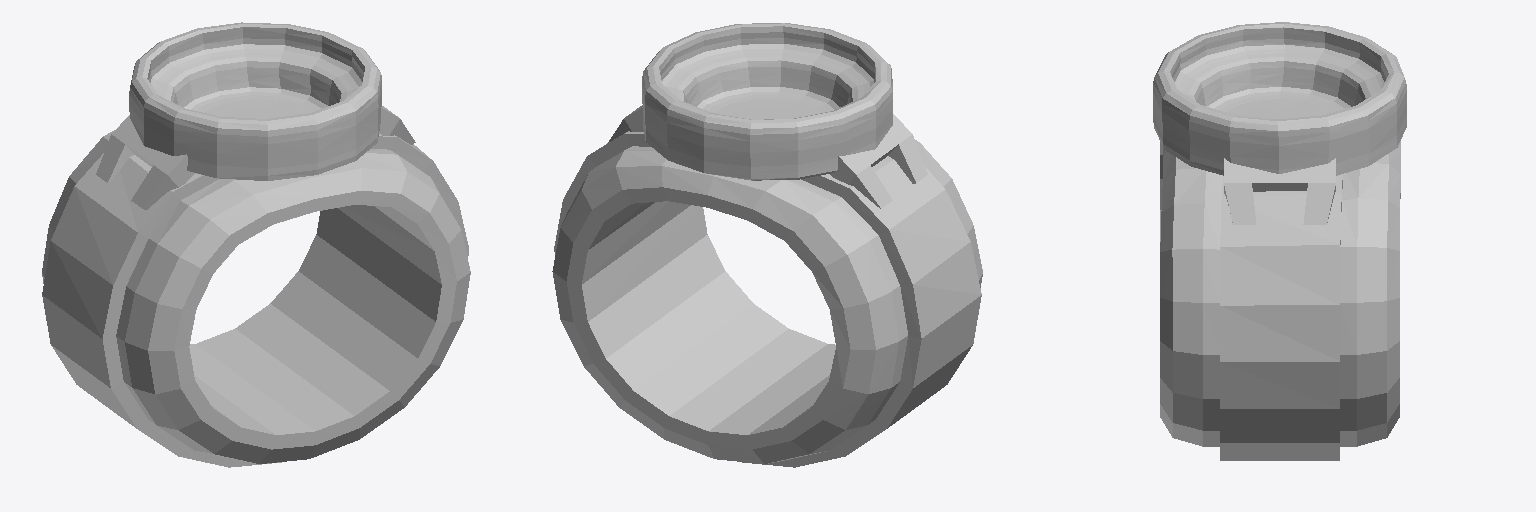
Rendered from watch_wristband.obj.
The picture shows the model from 3 angles: view 1: azimuth 30°, elevation 25°; view 2: azimuth 150°, elevation 25°; view 3: azimuth 270°, elevation 25°; orthographic projection.
Visible parts, largest first — view 1: watch1 group1; view 2: watch1 group1; view 3: watch1 group1.
Part boxes in pixels (left/top/right/bottom): watch1 group1: left=42, top=22, right=470, bottom=467; watch1 group1: left=552, top=23, right=982, bottom=467; watch1 group1: left=1153, top=22, right=1406, bottom=460.
Size of the model in its own units: 0.0992 by 0.0949 by 0.0595.